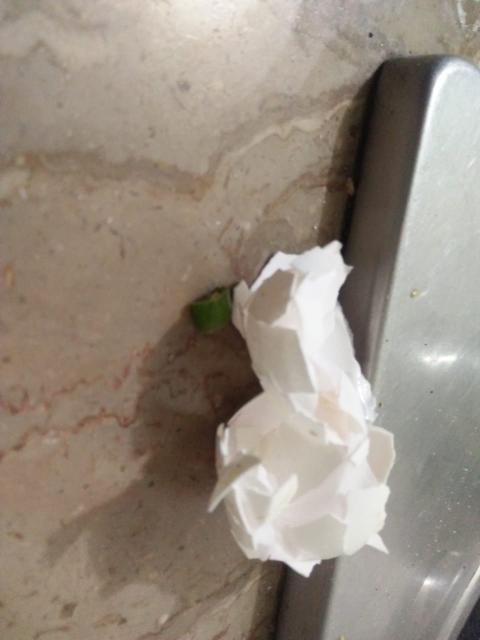Roto: (210, 242, 396, 578)
